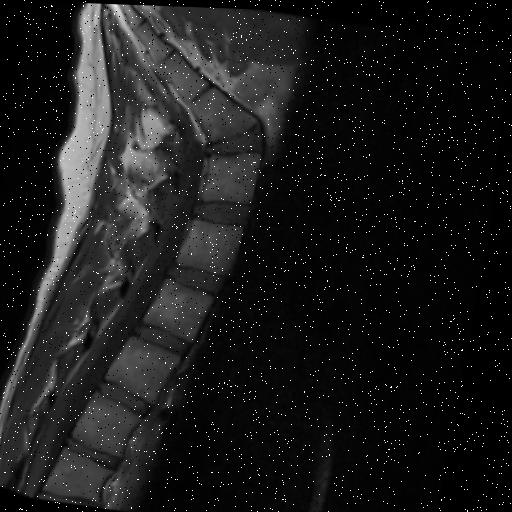L1: (82, 392, 150, 454)
L2: (113, 335, 187, 401)
L3: (150, 277, 220, 339)
L4: (183, 217, 247, 271)
L5: (205, 149, 264, 199)
S1: (194, 86, 260, 138)
